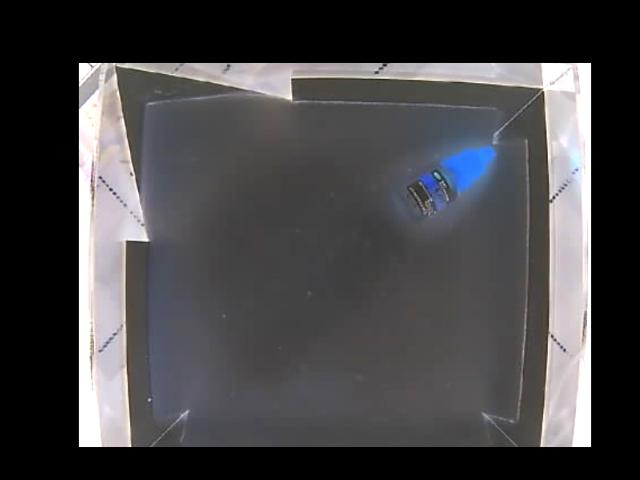Bottle: (395, 144, 497, 225)
